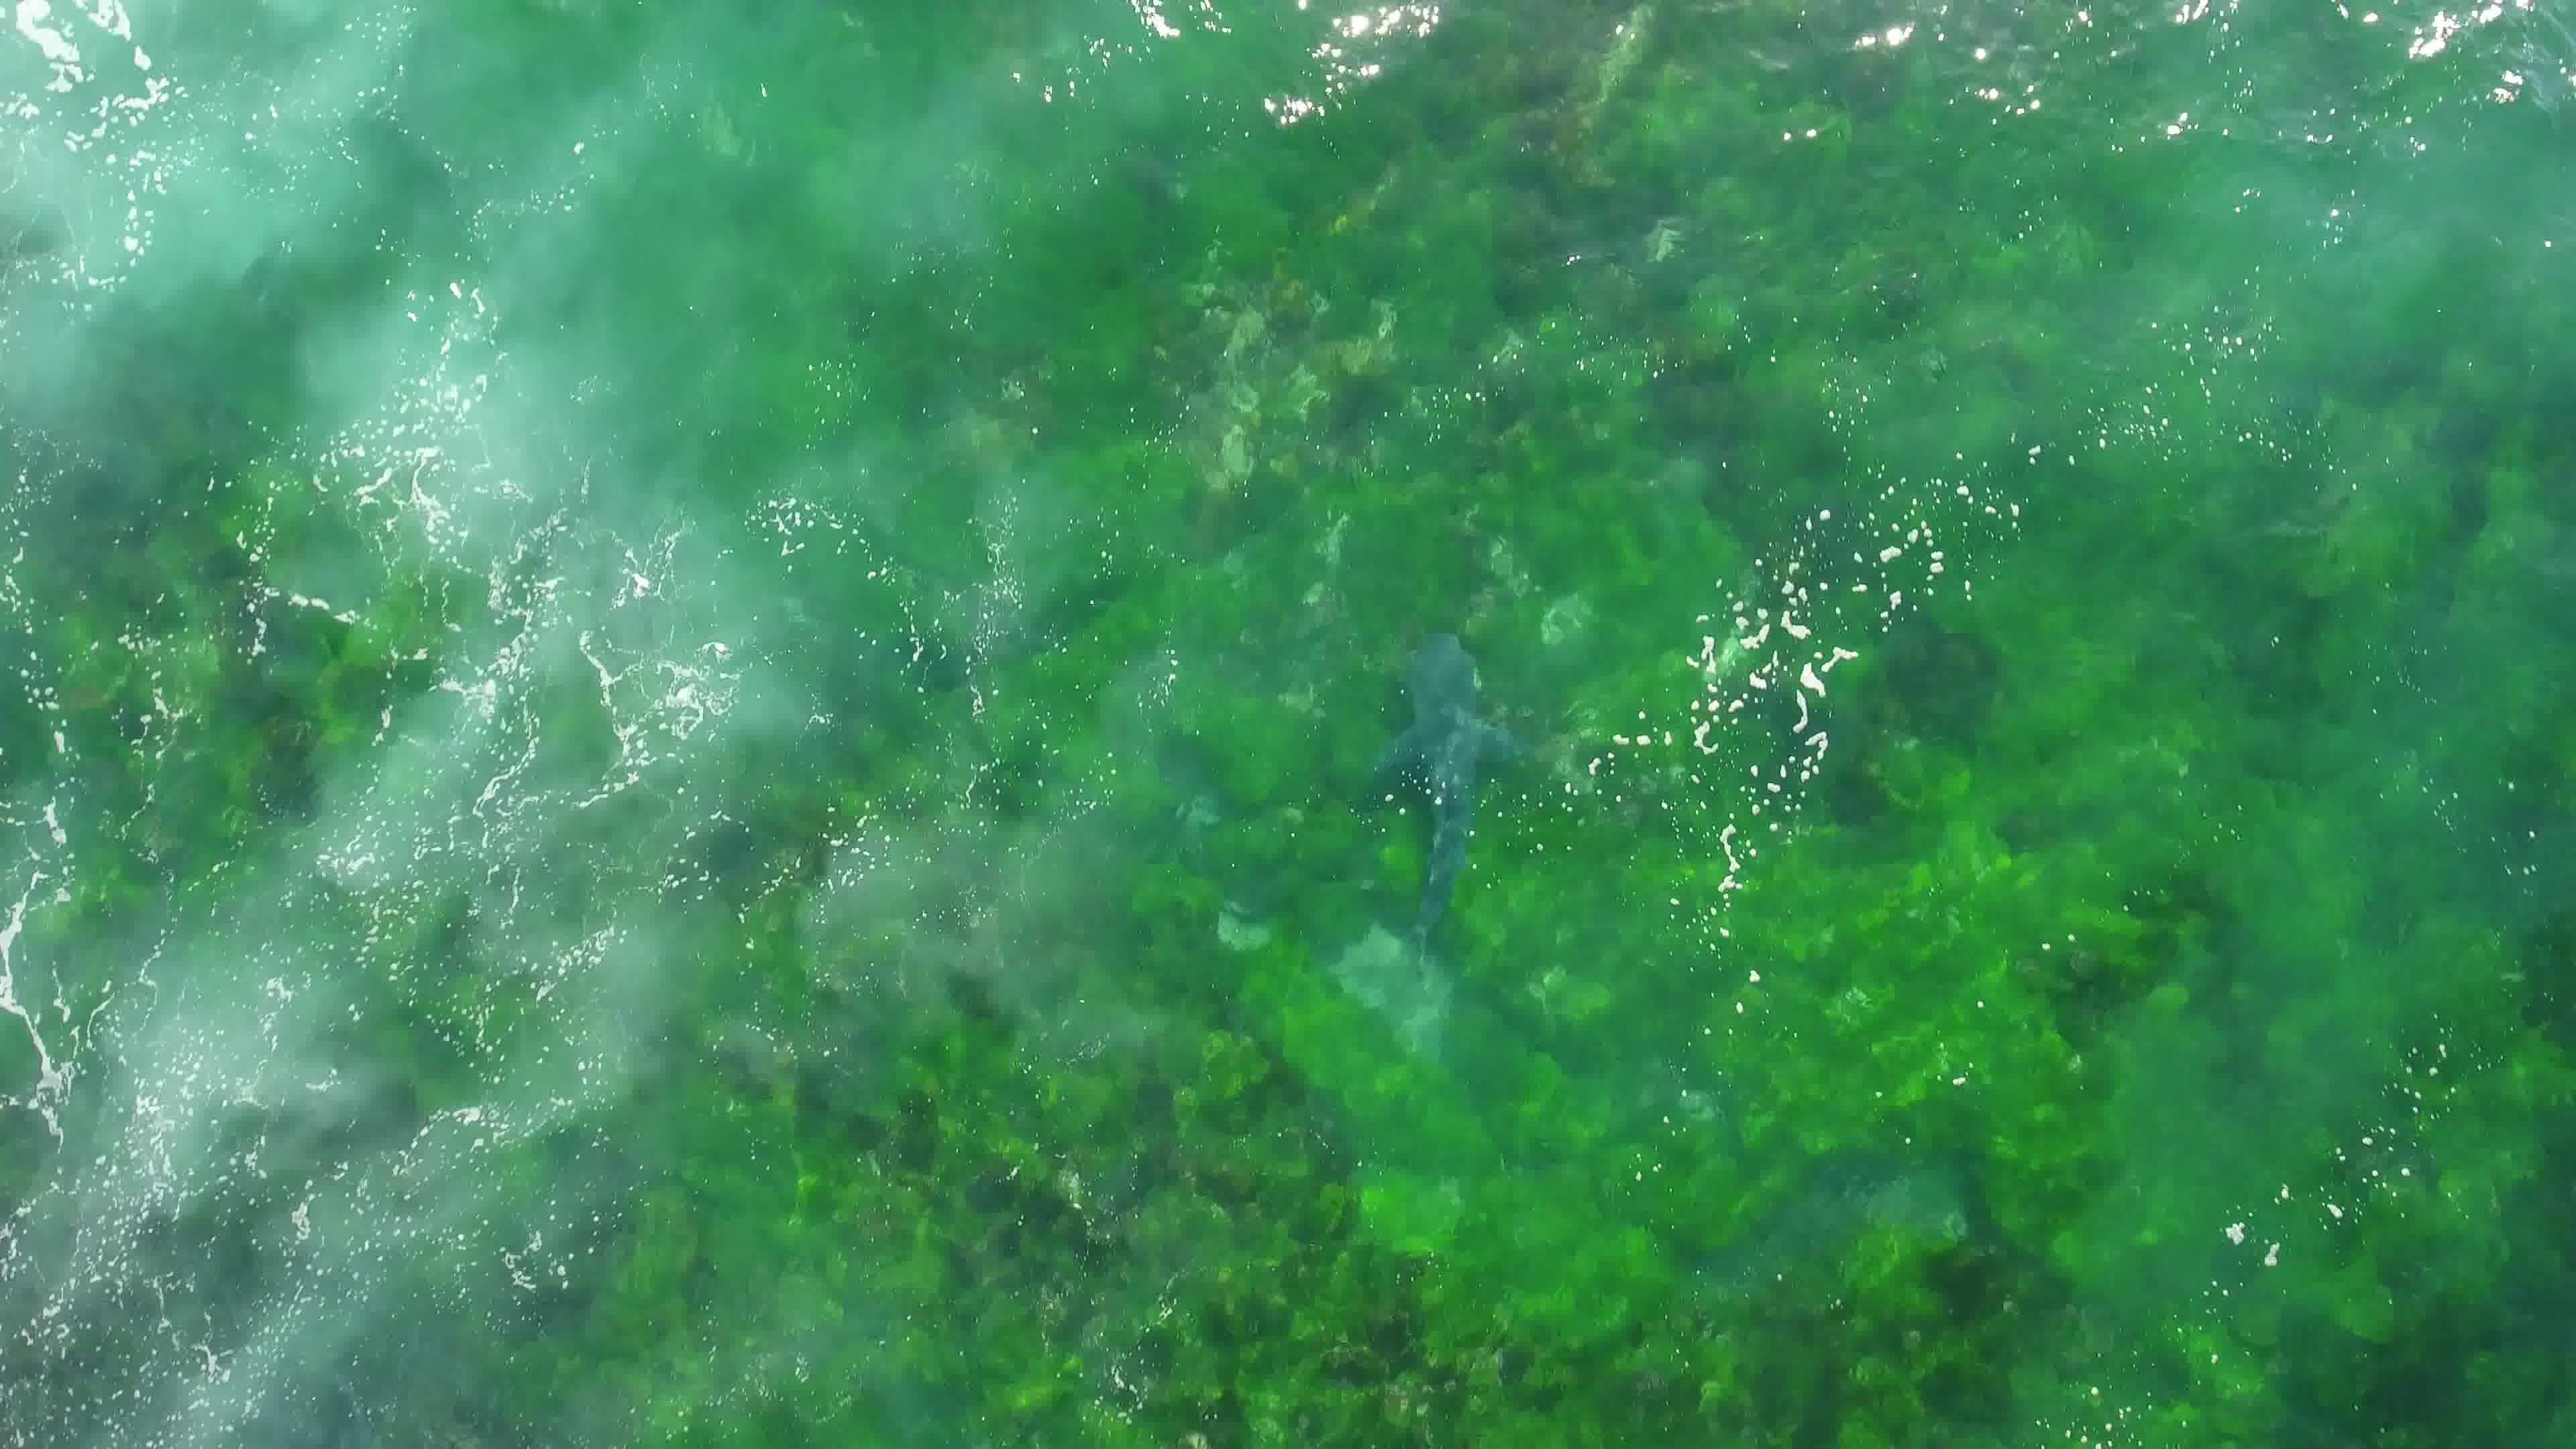shark: (1353, 623, 1536, 971)
